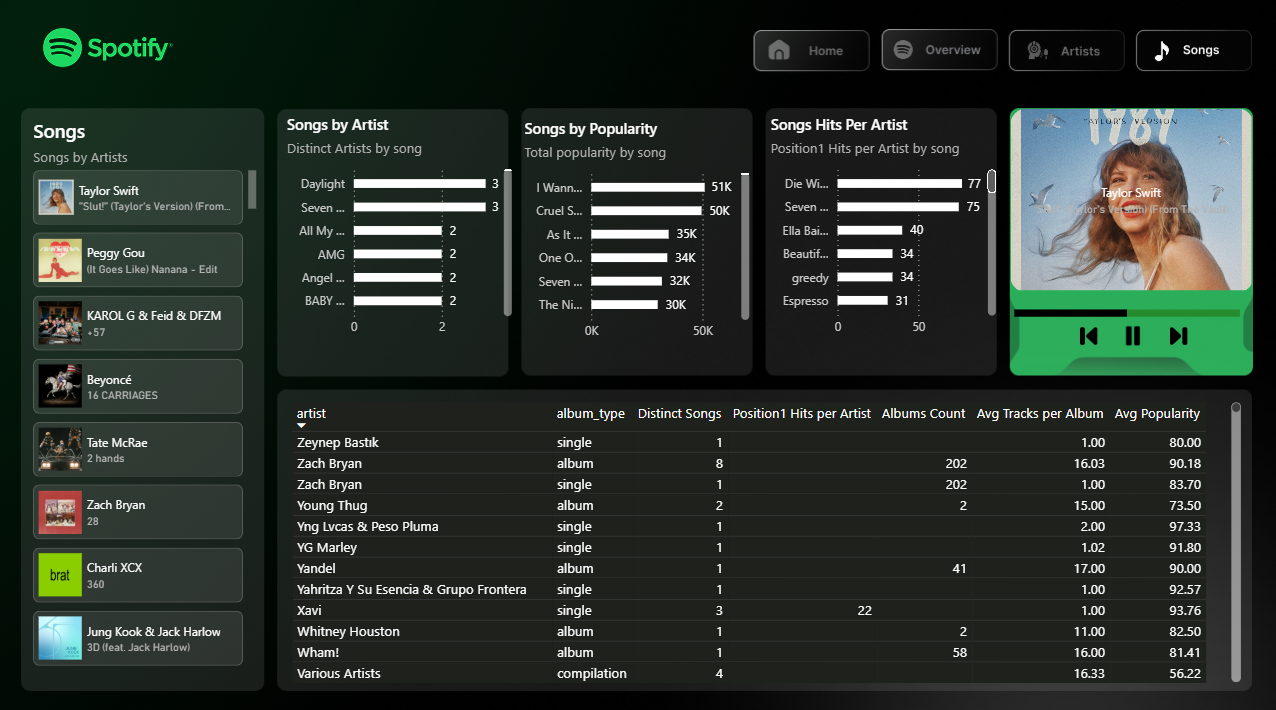

The dashboard page shown, as its layout file describes it:
{"tool":"powerbi","page":{"name":"Songs","canvas":[1280,720],"ordinal":3},"visuals":[{"type":"actionButton","box":[96.5,427.9,118.6,39.5],"z":0},{"type":"actionButton","box":[225.6,427.9,118.6,39.5],"z":1000},{"type":"actionButton","box":[353.5,427.9,118.6,39.5],"z":2000},{"type":"actionButton","box":[481.4,427.9,118.6,39.5],"z":3000},{"type":"actionButton","box":[754,34.2,118.6,39.5],"z":4000},{"type":"actionButton","box":[883,34.2,118.6,39.5],"z":5000},{"type":"actionButton","box":[1010.9,34.2,118.6,39.5],"z":6000},{"type":"actionButton","box":[1138.8,34.2,118.6,39.5],"z":7000},{"type":"advancedSlicerVisual","title":"Songs ","fields":{"Values":["Top-50-World.song"]},"box":[987,107,293,194.2],"z":8000},{"type":"hundredPercentStackedBarChart","fields":{"Y":["_Measures.Avg Popularity","Avg(Top-50-World.popularity)"]},"box":[1012.2,281.3,235.6,67.8],"z":9000},{"type":"image","box":[1161,326.2,40,30],"z":10000},{"type":"image","box":[1070.6,326.1,40,30],"z":11000},{"type":"image","box":[1110.9,319.1,50,44.7],"z":12000},{"type":"shape","box":[1002.3,107,258.1,283.7],"z":13000},{"type":"advancedSlicerVisual","title":"Songs ","fields":{"Values":["Top-50-World.song"]},"box":[31.4,122.1,233.7,560.5],"z":15000},{"type":"tableEx","fields":{"Values":["Top-50-World.artist","Top-50-World.album_type","Top-50-World.Distinct Songs","Top-50-World.Position1 Hits per Artist","_Measures.Albums Count","_Measures.Avg Tracks per Album","_Measures.Avg Popularity"]},"box":[288.3,402.9,959.9,289.6],"z":16000},{"type":"clusteredBarChart","title":"Songs by Artist","fields":{"Category":["Top-50-World.song"],"Y":["_Measures.Distinct Artists"]},"box":[285,119,235,231],"z":17000},{"type":"clusteredBarChart","title":"Songs by Popularity","fields":{"Y":["Sum(Top-50-World.popularity)"],"Category":["Top-50-World.song"]},"box":[523,122,235,231],"z":18000},{"type":"clusteredBarChart","title":"Songs Hits Per Artist","fields":{"Category":["Top-50-World.song"],"Y":["Top-50-World.Position1 Hits per Artist"]},"box":[768.9,118.3,235.3,230.4],"z":19000}]}

Visuals, with their boxes in screenshot pixels (x1, y1, x2, y2), scaled from the page's 1280x720 canvas onto the 1276x710 screenshot:
actionButton: box=[96, 422, 214, 461]
actionButton: box=[225, 422, 343, 461]
actionButton: box=[352, 422, 471, 461]
actionButton: box=[480, 422, 598, 461]
actionButton: box=[752, 34, 870, 73]
actionButton: box=[880, 34, 998, 73]
actionButton: box=[1008, 34, 1126, 73]
actionButton: box=[1135, 34, 1253, 73]
"Songs " advancedSlicerVisual: box=[984, 106, 1275, 297]
hundredPercentStackedBarChart - _Measures.Avg Popularity x Avg(Top-50-World.popularity): box=[1009, 277, 1244, 344]
image: box=[1157, 322, 1197, 351]
image: box=[1067, 322, 1107, 351]
image: box=[1107, 315, 1157, 359]
shape: box=[999, 106, 1256, 385]
"Songs " advancedSlicerVisual: box=[31, 120, 264, 673]
tableEx - Top-50-World.artist x Top-50-World.album_type: box=[287, 397, 1244, 683]
"Songs by Artist" clusteredBarChart: box=[284, 117, 518, 345]
"Songs by Popularity" clusteredBarChart: box=[521, 120, 756, 348]
"Songs Hits Per Artist" clusteredBarChart: box=[766, 117, 1001, 344]
